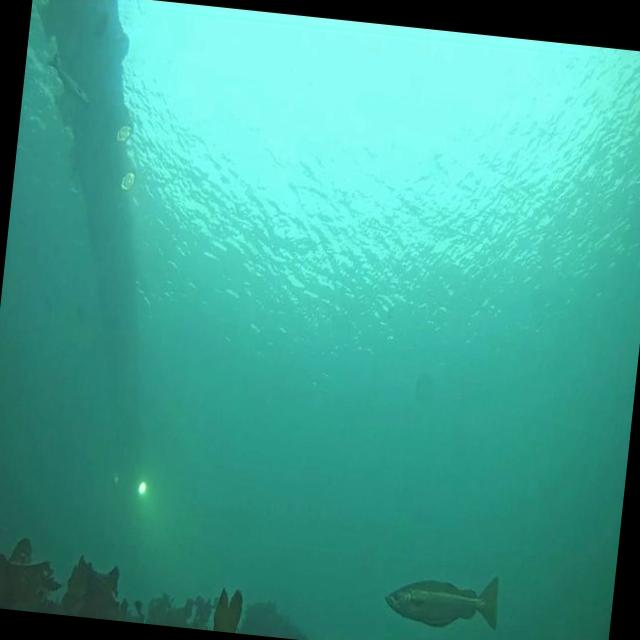fish: (382, 562, 502, 634), (44, 54, 94, 104)
